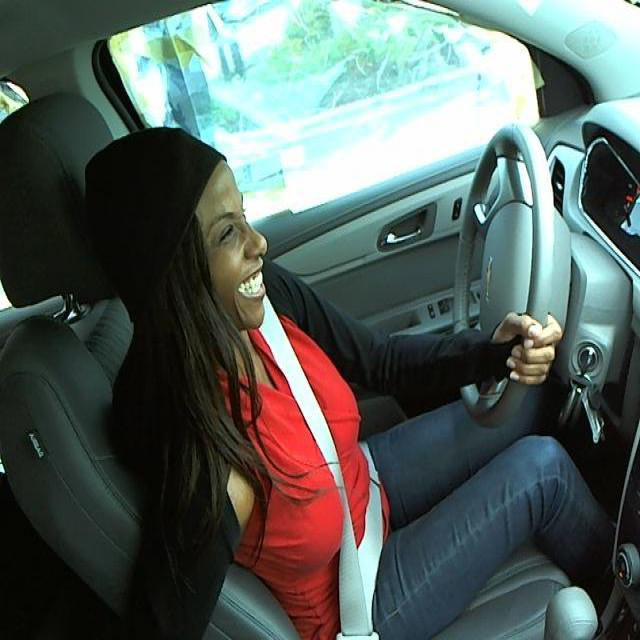seatbelt: (265, 331, 382, 572)
